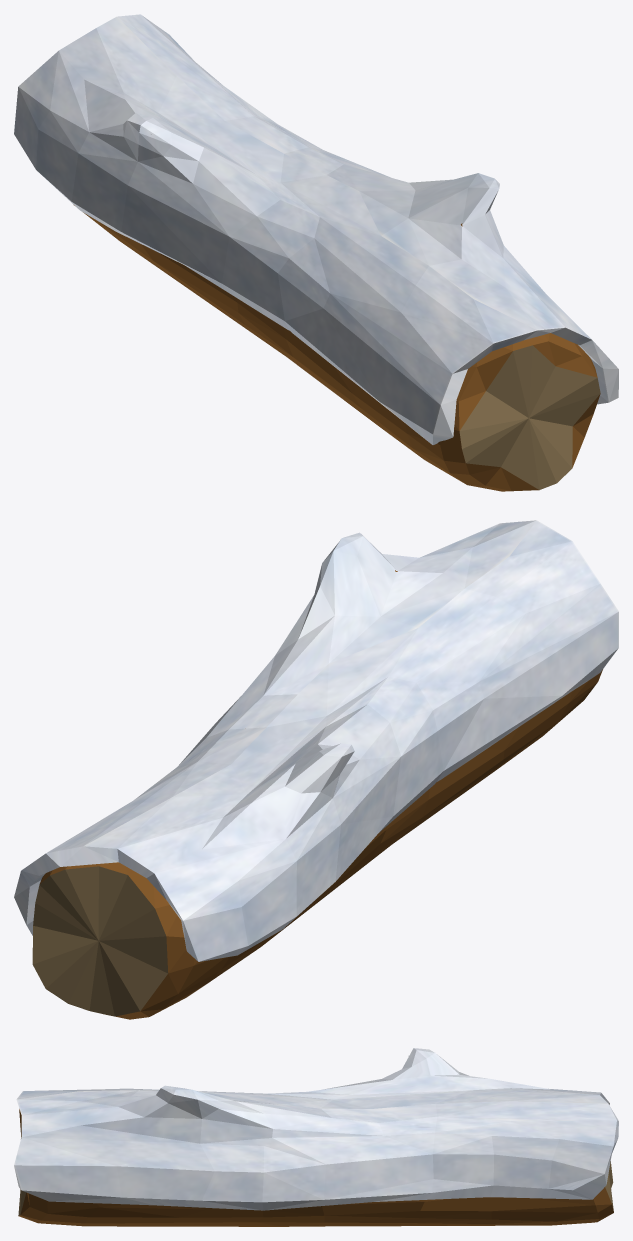
The model's file is Liegender_Baum_snow.glb.
3 views of the same model, one above another, from view 1: azimuth 30°, elevation 25°; view 2: azimuth 150°, elevation 25°; view 3: azimuth 270°, elevation 25° (orthographic). The views are drawn at different scales.
Parts seen in each view (by area): view 1: Cylinder; view 2: Cylinder; view 3: Cylinder.
Boxes of the visible parts, x1=… form: Cylinder: x1=14, y1=14, x2=618, y2=491; Cylinder: x1=14, y1=520, x2=618, y2=1019; Cylinder: x1=14, y1=1048, x2=618, y2=1226.
Bounding box in the file's own units: 2.67 × 2.6 × 9.11.
Materials: 3 (1 with a texture image).
